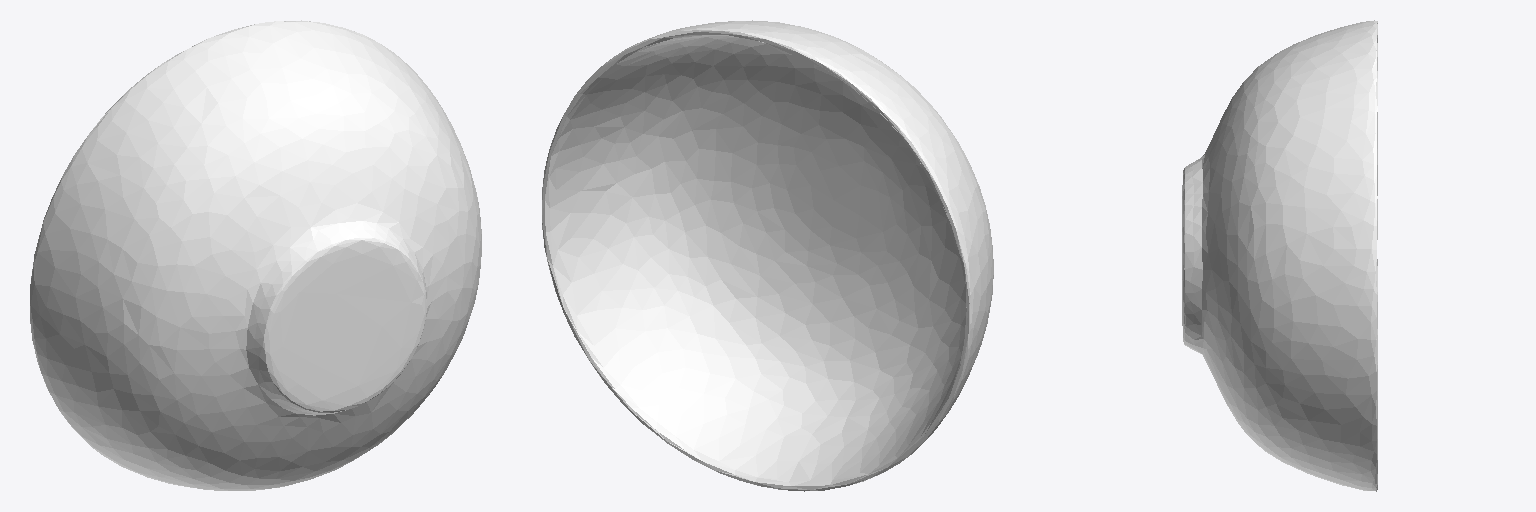
The robot description file, URDF, robot "bowl":
<?xml version="1.0" ?>
<robot name="bowl">

  <material name="white">
    <color rgba="1 1 1 1"/>
  </material>

  <link name="root">
    <inertial>
      <mass value="0.1"/>
      <origin rpy="0 0 0" xyz="0 0.03 0"/>
      <inertia ixx="1" ixy="0" ixz="0" iyy="1" iyz="0" izz="1"/>
    </inertial>
    <visual>
      <origin rpy="0 0 0" xyz="0 0 0"/>
      <geometry>
        <mesh filename="bowl.obj" scale="0.75 0.75 0.75"/>
      </geometry>
      <material name="white"/>
    </visual>
    <collision>
      <origin rpy="0 0 0" xyz="0 0 0"/>
      <geometry>
        <mesh filename="bowl_vhacd.obj" scale="0.75 0.75 0.75"/>
      </geometry>
    </collision>
  </link>
</robot>

--- What the picture shows (computed from the rendered views, not written in the file) ---
Views: 3 orthographic renders of the robot side by side, from view 1: azimuth 30°, elevation 25°; view 2: azimuth 150°, elevation 25°; view 3: azimuth 270°, elevation 25°.
Robot: bowl — 1 links, 0 joints (none); root link root; default pose: all joints at 0.
Visible links, largest first — view 1: root; view 2: root; view 3: root.
Link boxes in pixels (bbox=[...]): root: bbox=[30, 20, 481, 490]; root: bbox=[542, 20, 993, 491]; root: bbox=[1182, 20, 1377, 491].
Bounding box of the posed robot: 0.1444 × 0.0599 × 0.1443 m (x, y, z).
Meshes: 1 distinct files referenced, 1 mesh visuals loaded (1 OBJ).